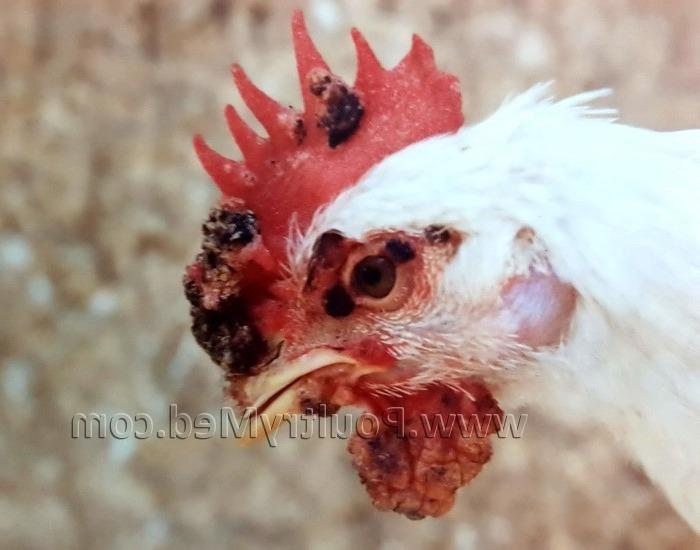AbNormal: (183, 8, 700, 536)
